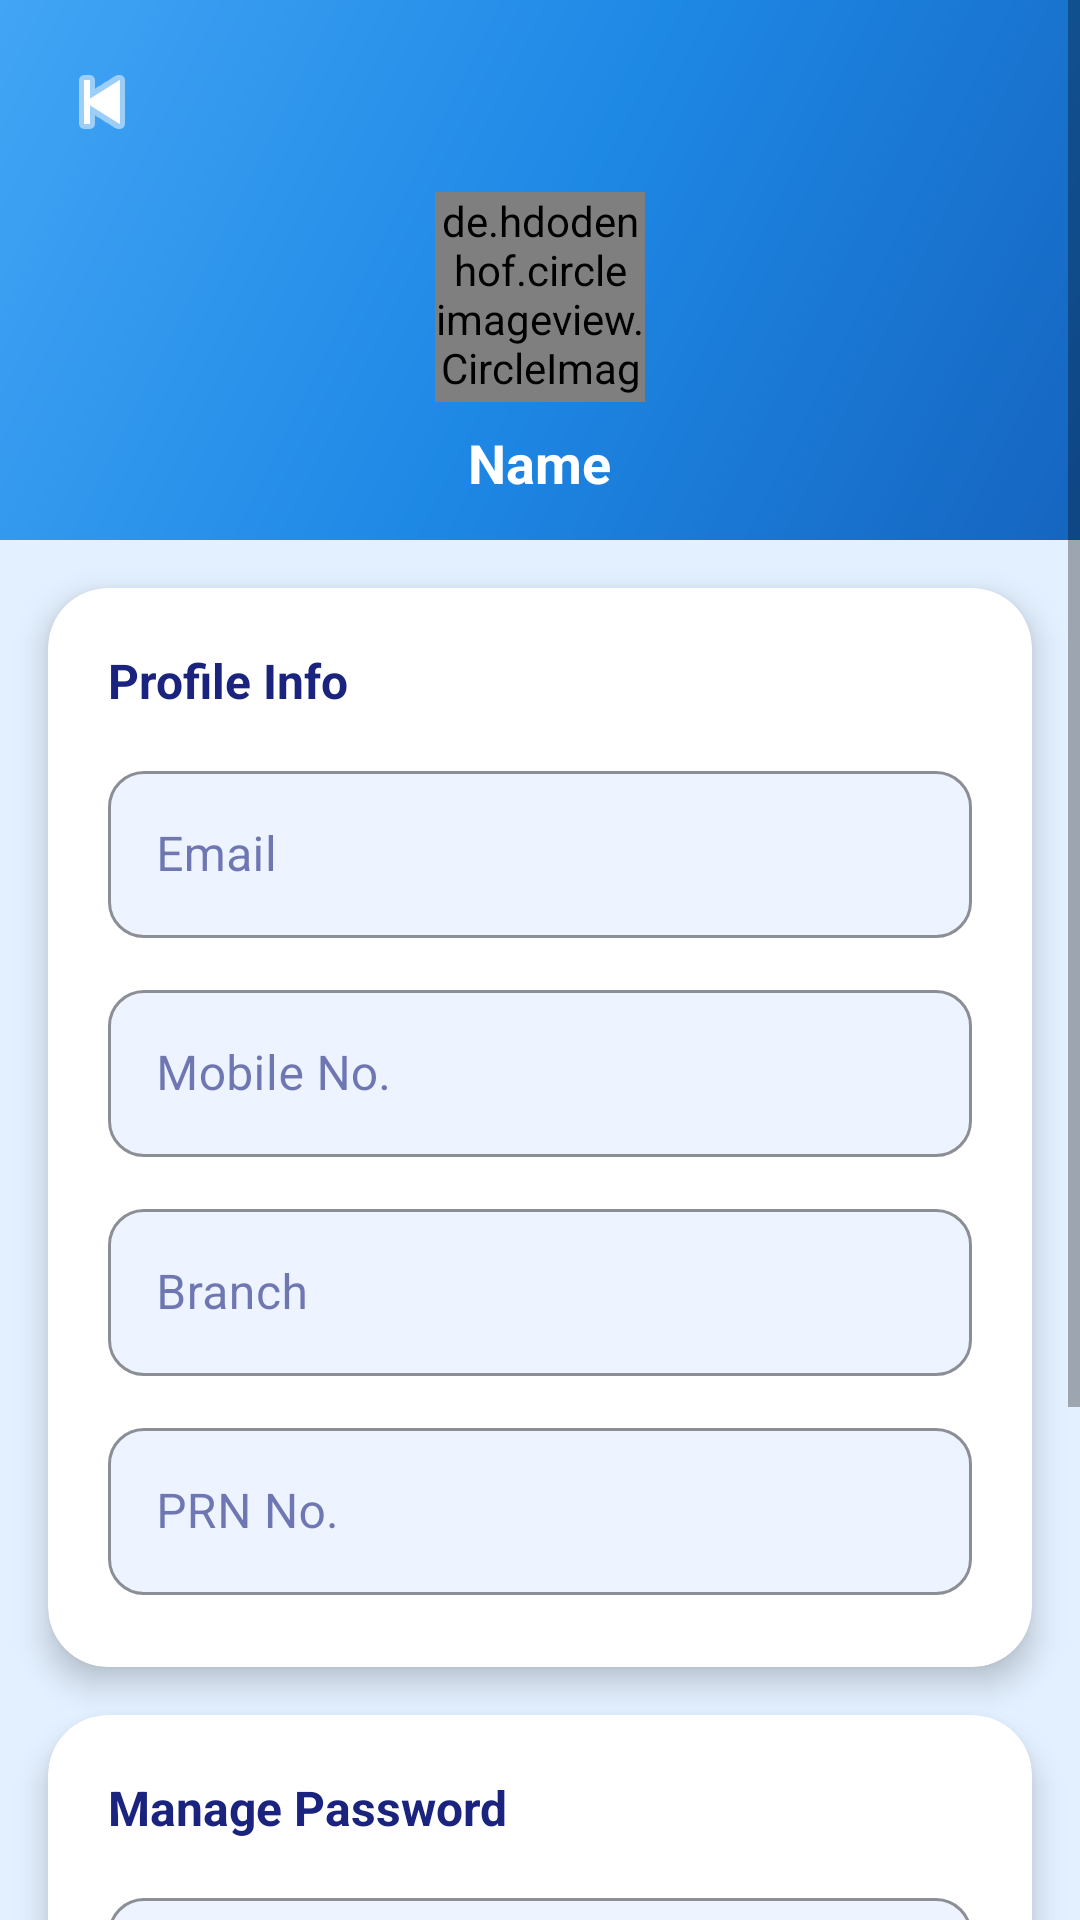

Screen size 1080w x 1920h. Icon name, then its center in pixels as (x=x, y=y):
previous: (x=102, y=102)
